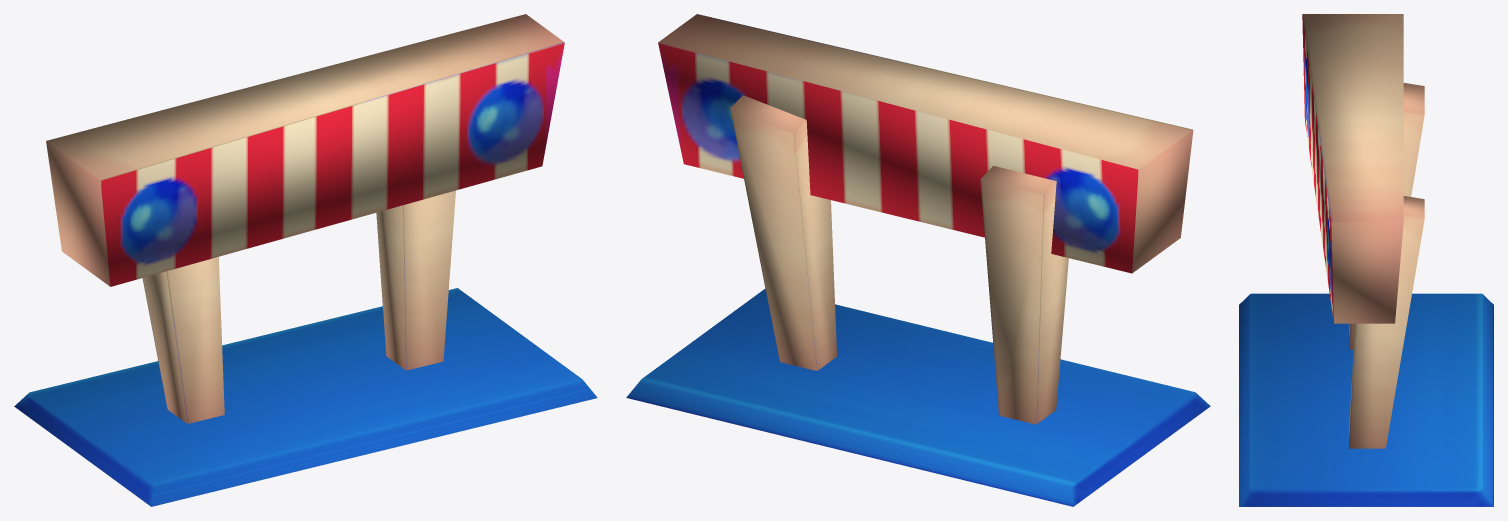
The model's file is roadblock_2.FBX.
3 renders of one model, left to right at view 1: azimuth 30°, elevation 25°; view 2: azimuth 150°, elevation 25°; view 3: azimuth 270°, elevation 25°, orthographic. The views are drawn at different scales.
Parts seen in each view (by area): view 1: roadblock_2; view 2: roadblock_2; view 3: roadblock_2.
Part boxes in pixels (bbox=[...]): roadblock_2: bbox=[14, 14, 597, 506]; roadblock_2: bbox=[626, 14, 1210, 506]; roadblock_2: bbox=[1239, 14, 1493, 506].
Size of the model in its own units: 207 by 130 by 103.
1 material, 1 textured.
